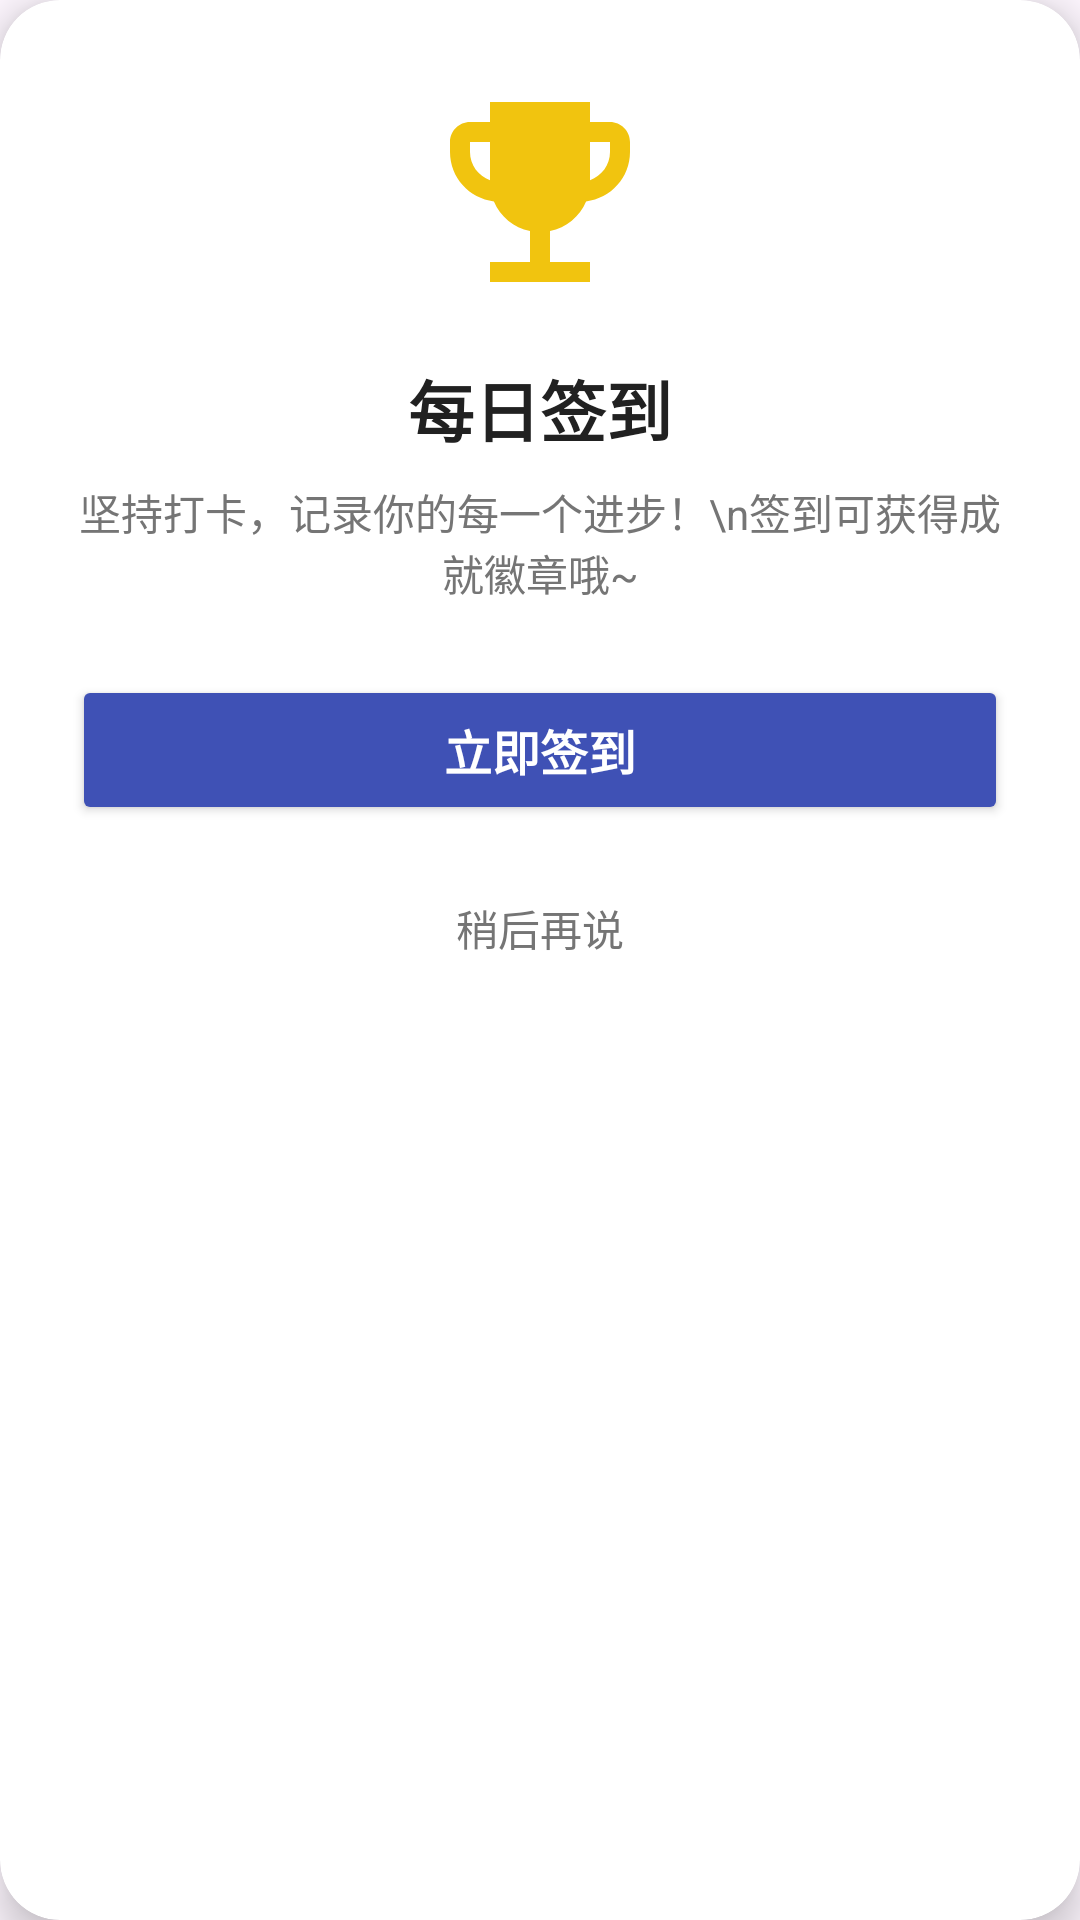

Point at icon controls on the screen. Image size 1080*1920, points as point (x, y).
achievement: point (540, 192)
